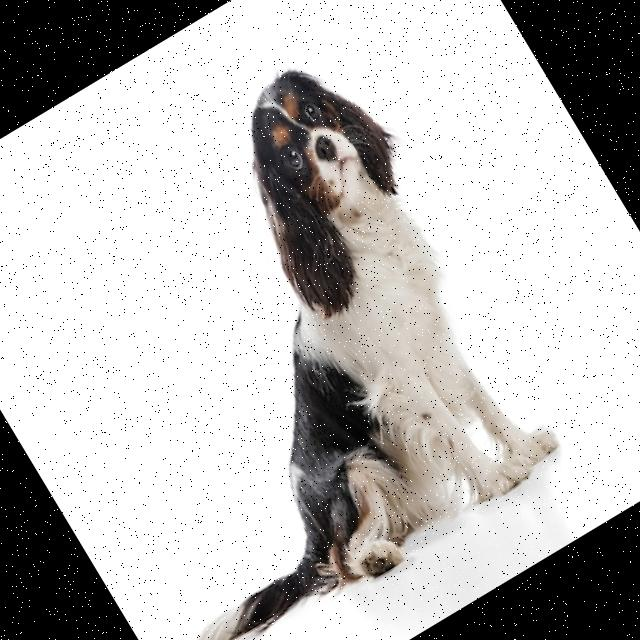Dog: (0, 38, 583, 640)
